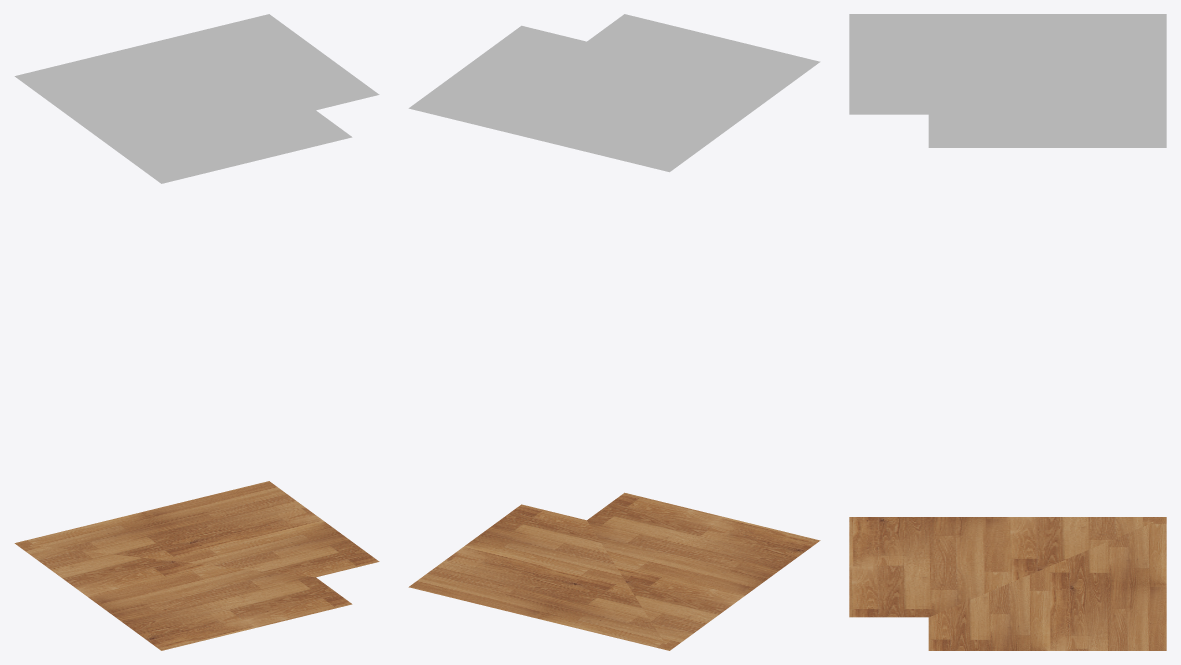
File: CornerFloor.fbx
3 renders of one model, left to right at view 1: azimuth 30°, elevation 25°; view 2: azimuth 150°, elevation 25°; view 3: azimuth 270°, elevation 25°, orthographic. The views are drawn at different scales.
Parts seen in each view (by area): view 1: Cube.043; view 2: Cube.043; view 3: Cube.043.
Boxes of the visible parts, left/top/right/bottom form: Cube.043: left=14, top=14, right=379, bottom=650; Cube.043: left=408, top=14, right=820, bottom=650; Cube.043: left=849, top=14, right=1166, bottom=650.
Size of the model in its own units: 80 by 140 by 80.
